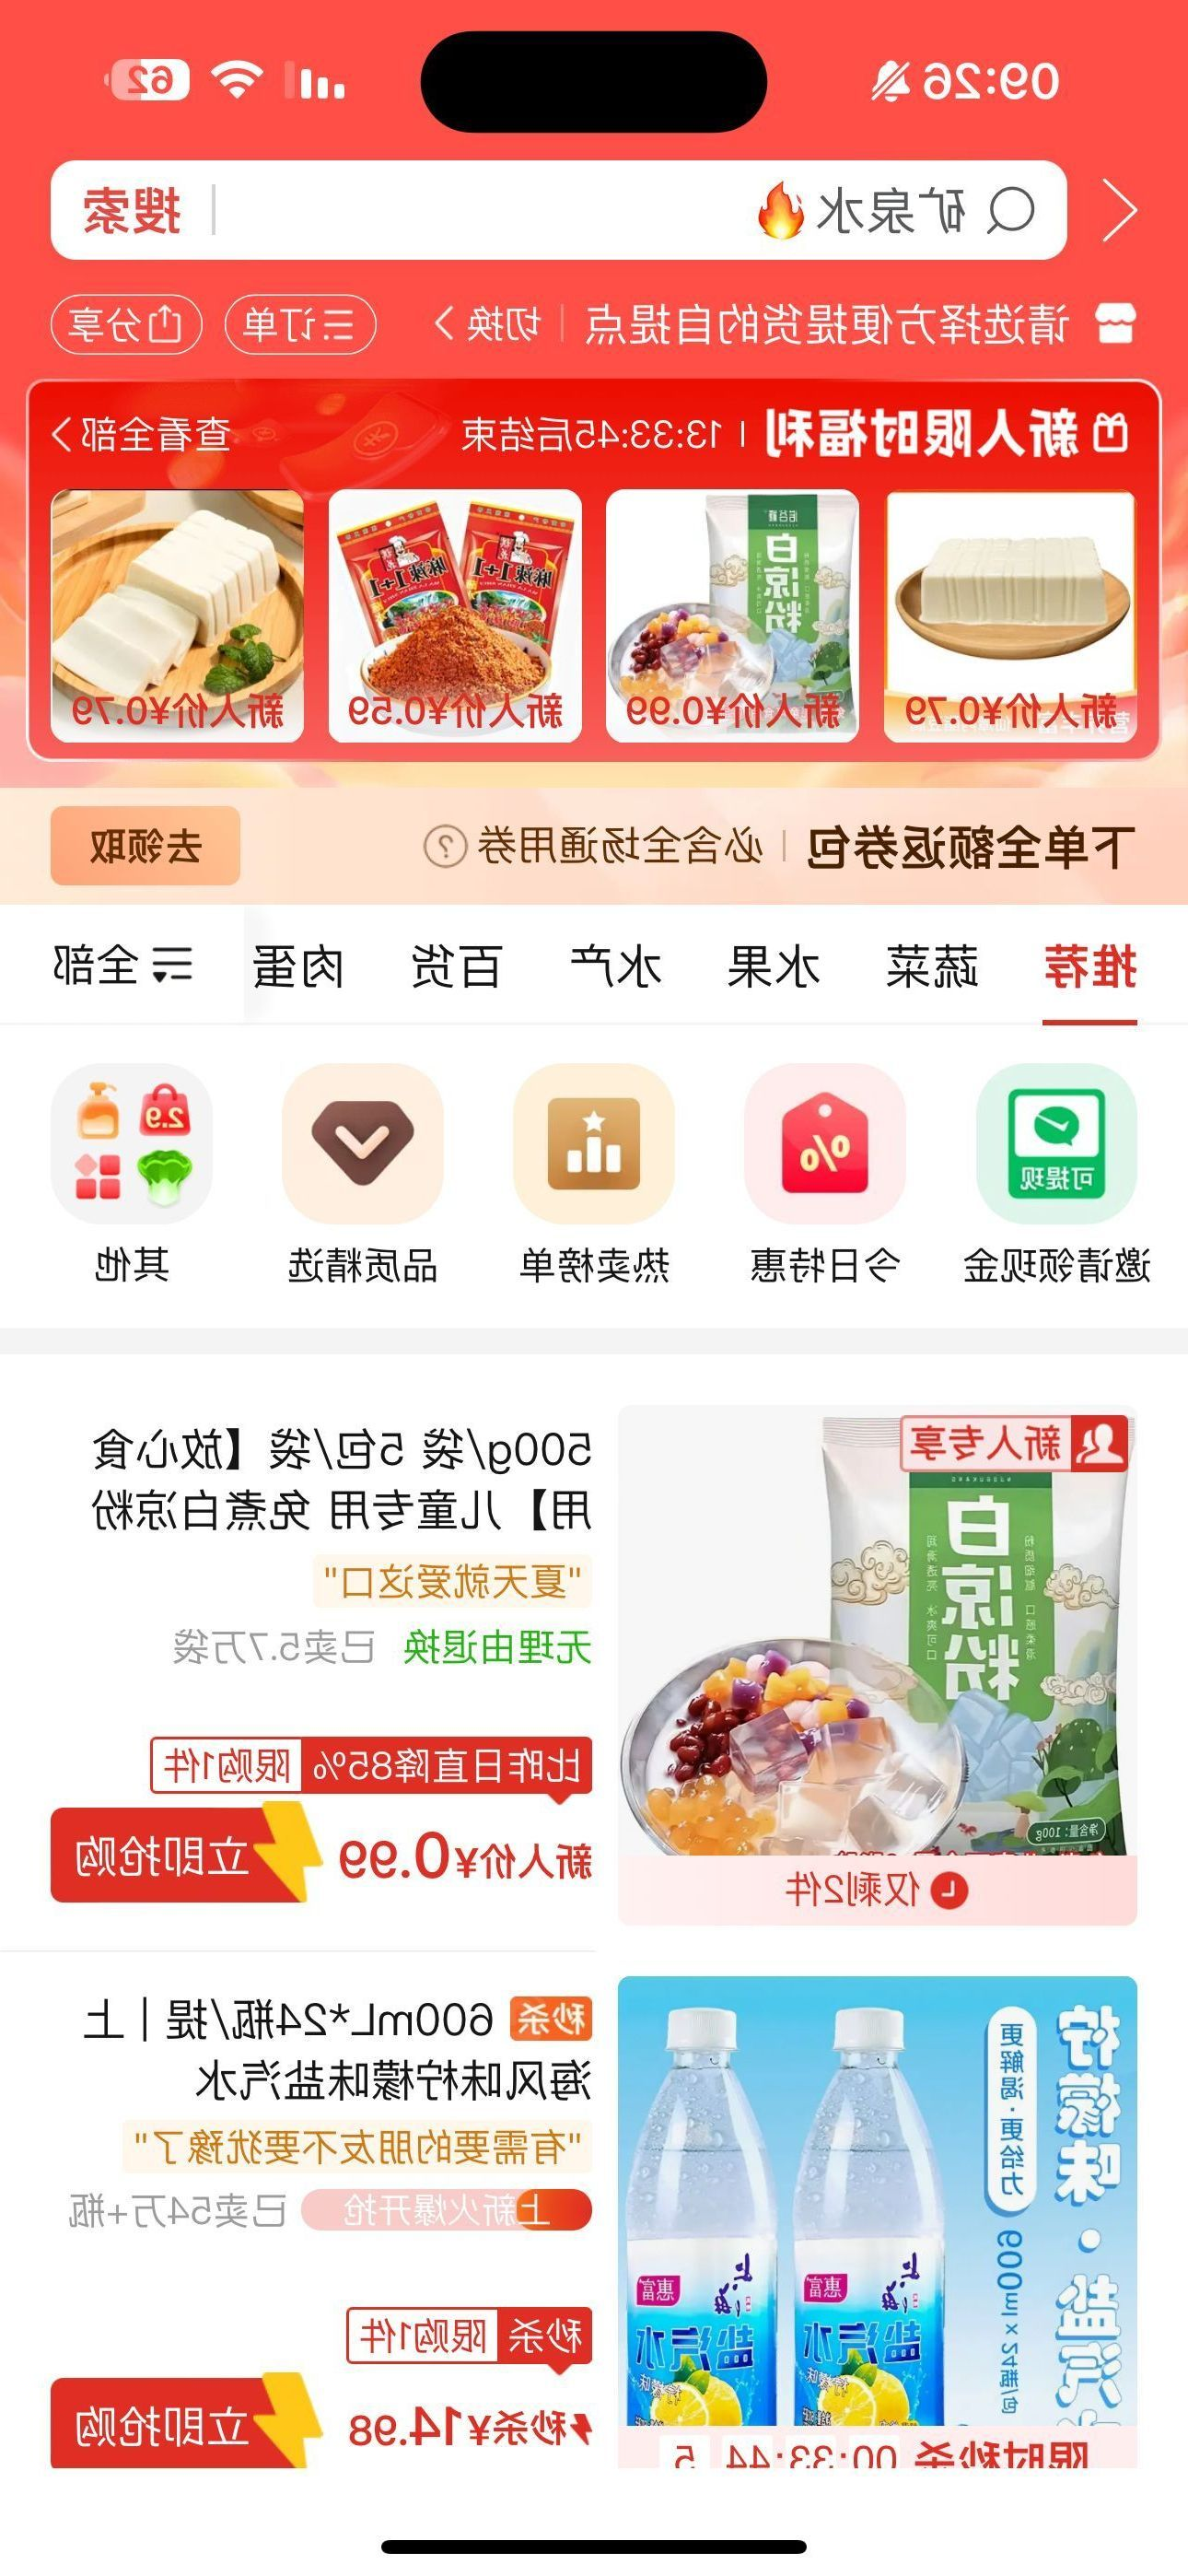item: (7, 1362, 1185, 1945), (2, 1960, 1183, 2504)
op_bar: (3, 149, 1167, 263)
seckill: (33, 383, 1167, 752)
